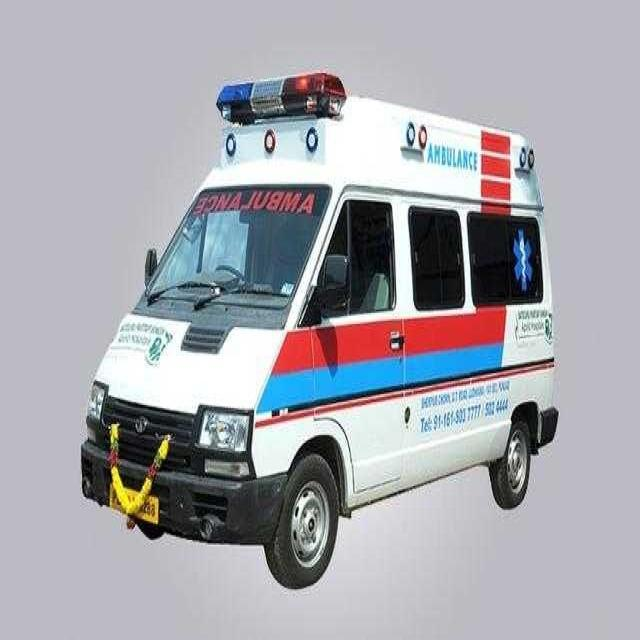emergency-vehicle: (79, 72, 566, 588)
